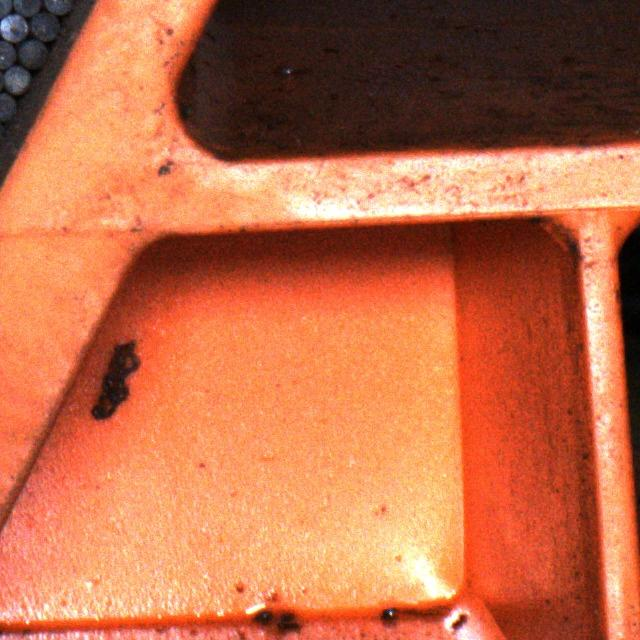tool: (17, 39, 47, 68), (28, 11, 58, 39), (3, 65, 30, 94), (0, 12, 26, 40), (0, 92, 16, 121), (12, 0, 40, 15), (0, 42, 15, 70), (43, 0, 71, 13), (0, 0, 11, 16)
